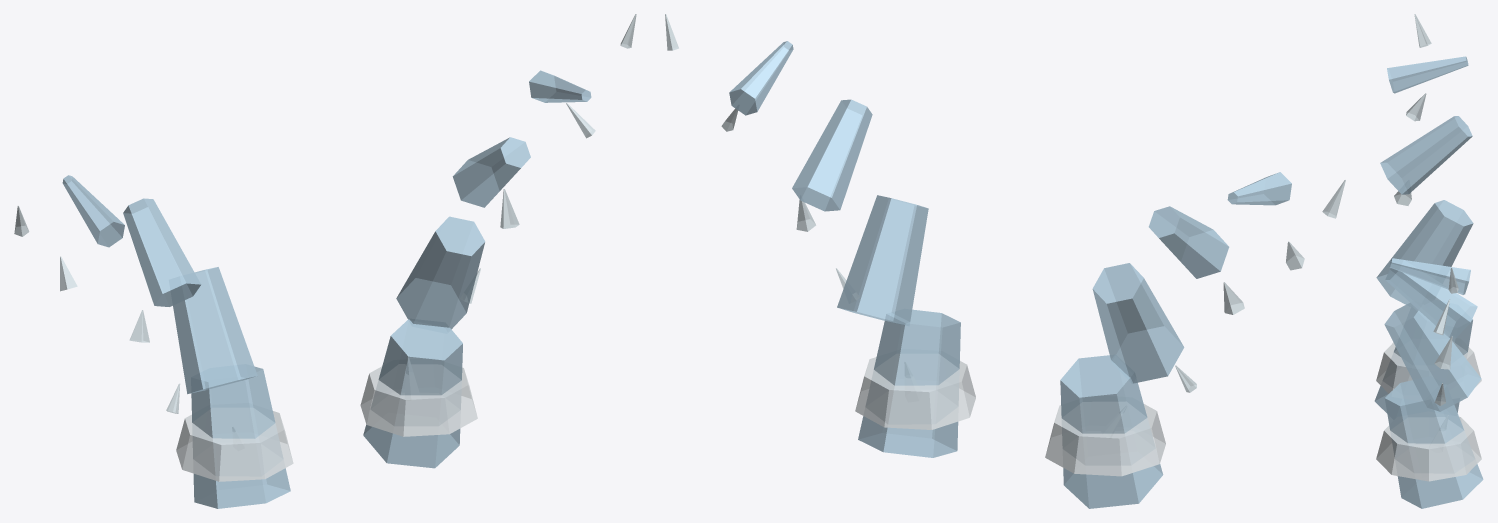
File: Frozen_Shard_Horns.glb
3 renders of one model, left to right at view 1: azimuth 30°, elevation 25°; view 2: azimuth 150°, elevation 25°; view 3: azimuth 270°, elevation 25°, orthographic. The views are drawn at different scales.
Visible parts, largest first — view 1: FrozenHorns; view 2: FrozenHorns; view 3: FrozenHorns.
Part boxes in pixels (x1=…): FrozenHorns: x1=14, y1=14, x2=636, y2=508; FrozenHorns: x1=665, y1=14, x2=1345, y2=508; FrozenHorns: x1=1374, y1=14, x2=1483, y2=508.
Size of the model in its own units: 2.43 by 1.37 by 0.4121.
